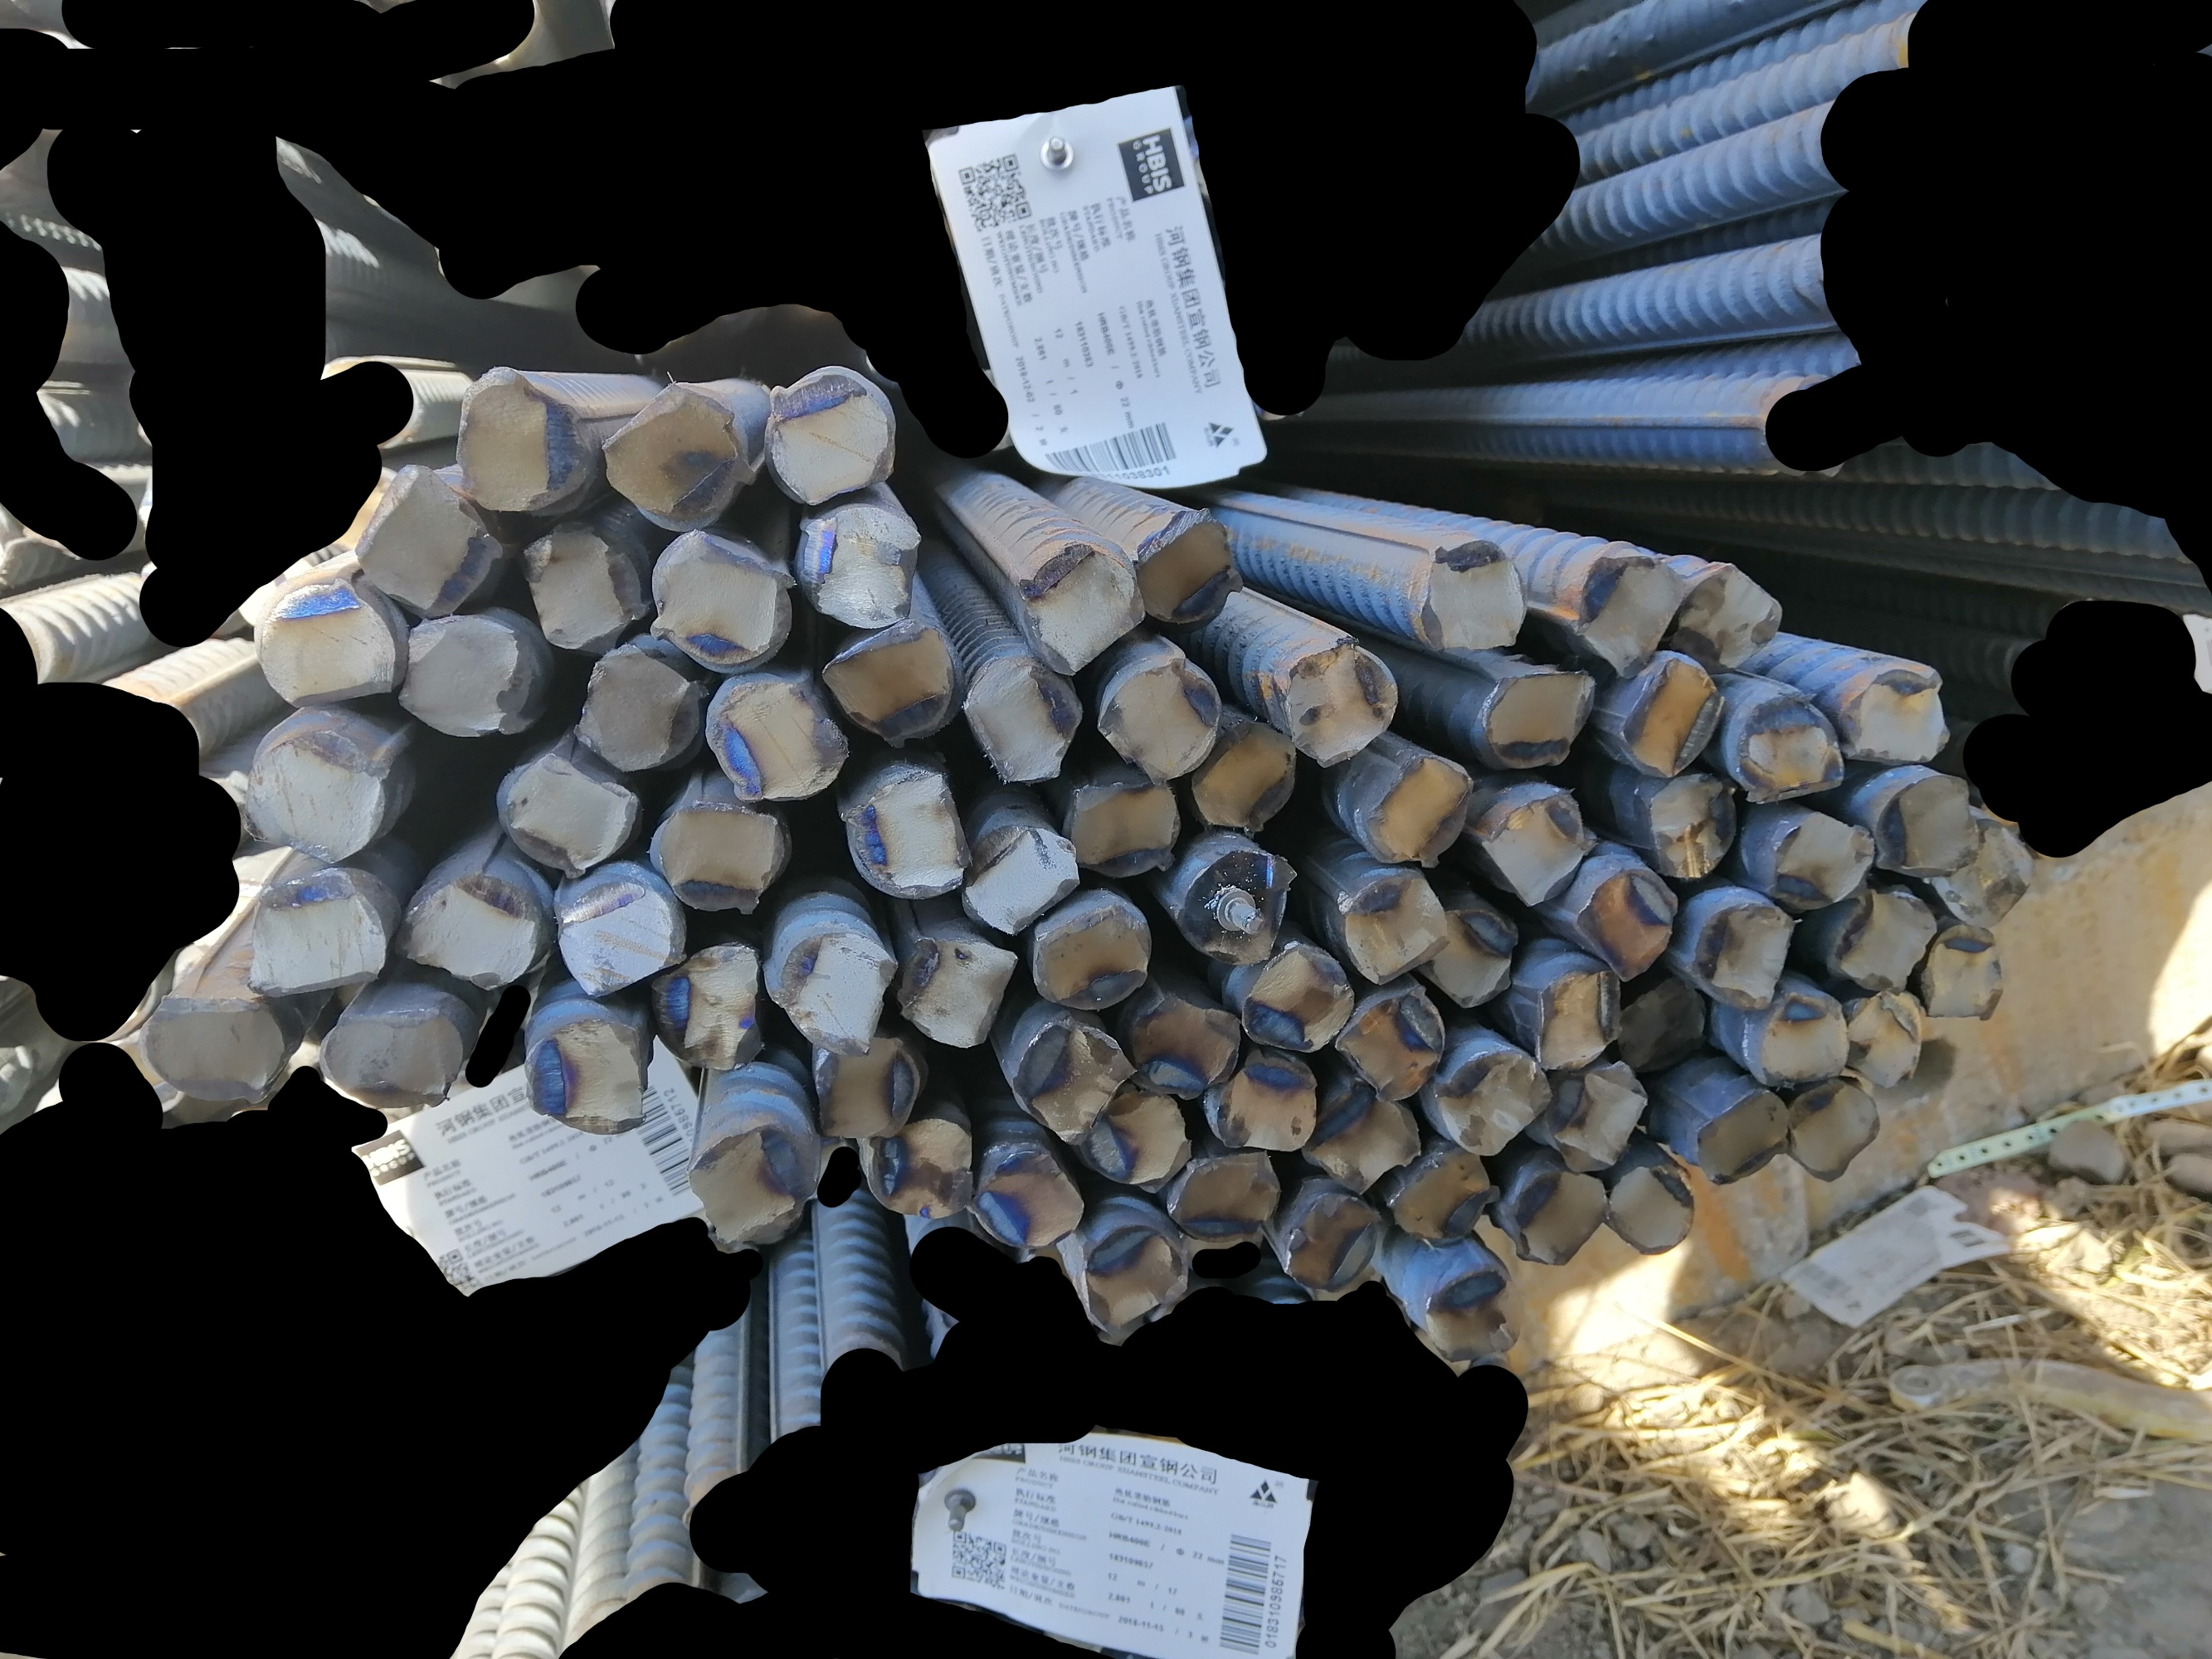rebar: (598, 382, 750, 537), (648, 523, 797, 674), (357, 465, 502, 620), (451, 368, 587, 519), (762, 910, 899, 1058), (763, 368, 899, 516), (248, 728, 385, 871), (254, 584, 403, 713), (704, 671, 845, 803), (397, 617, 544, 744), (573, 636, 708, 774), (392, 870, 540, 993), (495, 756, 638, 884), (962, 648, 1089, 786), (139, 993, 286, 1112), (254, 877, 392, 1002), (826, 622, 959, 751), (554, 864, 680, 999), (650, 795, 788, 917), (695, 1117, 812, 1260), (793, 498, 920, 629), (842, 774, 969, 904), (1009, 1019, 1137, 1148), (1020, 549, 1145, 680), (892, 924, 1020, 1051), (1173, 840, 1297, 971), (519, 523, 641, 650), (319, 1011, 472, 1112), (1103, 655, 1222, 786), (1283, 638, 1400, 770), (530, 1016, 648, 1140), (957, 821, 1081, 938), (1030, 899, 1154, 1016), (657, 946, 769, 1073), (1187, 718, 1304, 838), (1417, 532, 1530, 655), (1236, 939, 1354, 1056), (1299, 1084, 1422, 1195), (1332, 992, 1450, 1107), (1576, 554, 1684, 680), (1668, 559, 1785, 674), (1438, 1044, 1557, 1157), (1621, 648, 1724, 777), (811, 1028, 922, 1147), (969, 1141, 1088, 1253), (1691, 892, 1801, 1012), (861, 1114, 981, 1222), (1081, 1222, 1189, 1342), (1734, 690, 1841, 812), (1361, 753, 1475, 866), (1926, 814, 2041, 925), (1079, 1082, 1198, 1190), (1344, 864, 1452, 983), (1485, 786, 1591, 906), (1572, 861, 1677, 983), (1130, 519, 1243, 631), (1133, 990, 1245, 1103), (1063, 774, 1180, 880), (1829, 885, 1944, 992), (1872, 770, 1978, 884), (1485, 669, 1600, 774), (1839, 662, 1947, 770), (1384, 1145, 1496, 1249), (1642, 760, 1736, 884), (1780, 1073, 1884, 1183), (1279, 1194, 1389, 1295), (1529, 962, 1628, 1073), (1417, 901, 1522, 1006), (1215, 1051, 1318, 1157), (1426, 1256, 1527, 1364), (1513, 1161, 1612, 1270), (1768, 810, 1877, 910), (1557, 1054, 1645, 1176), (1611, 967, 1708, 1077), (1171, 1154, 1283, 1244), (1844, 979, 1940, 1084), (1698, 1082, 1792, 1187), (1755, 985, 1849, 1089), (1921, 917, 2008, 1018), (1605, 1161, 1693, 1258)
